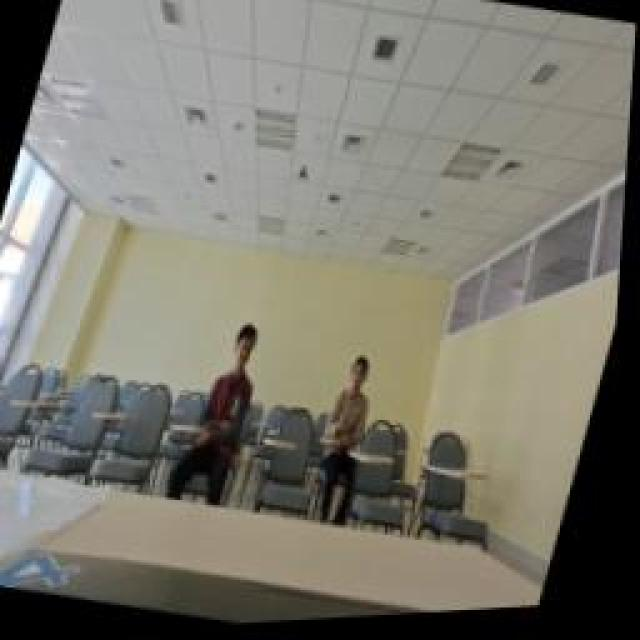study: (200, 318, 278, 440), (325, 352, 390, 452)
